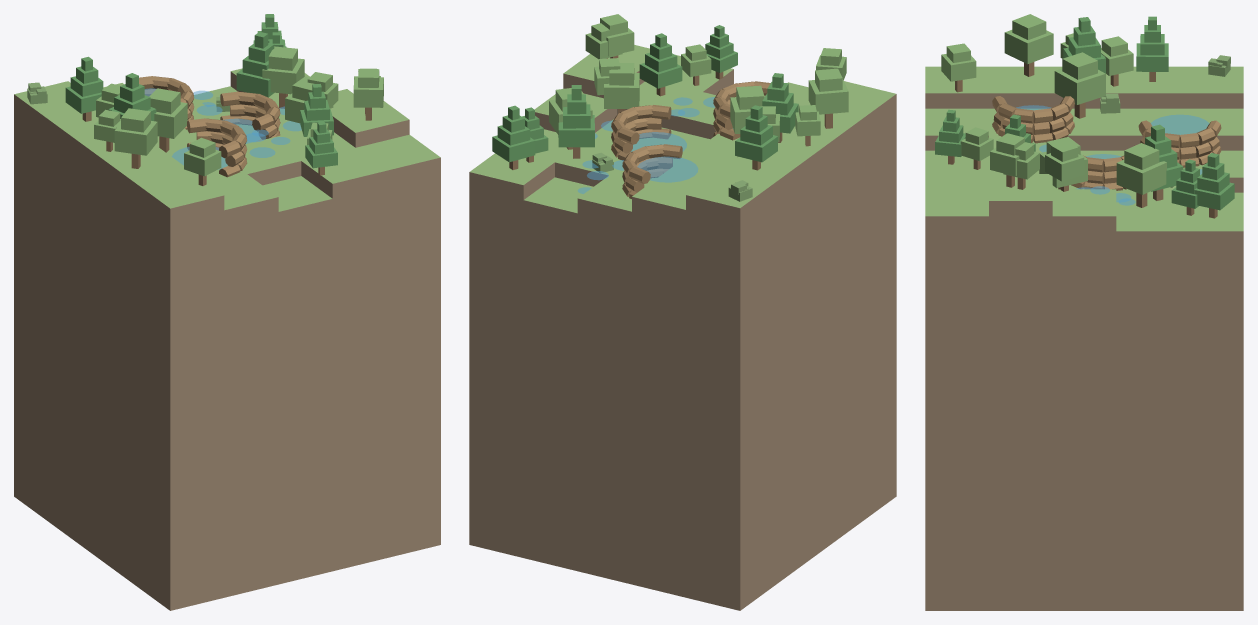
The model's file is block_3_leakingdam_100.glb.
The picture shows the model from 3 angles, left to right: view 1: azimuth 30°, elevation 25°; view 2: azimuth 150°, elevation 25°; view 3: azimuth 270°, elevation 25°; orthographic projection.
Parts seen in each view (by area): view 1: Patch_UpperLeft_b08_LD, LD_Dam_03, LD_Veg_03_003, LD_Water_03, LD_Veg_03_000, LD_Veg_03_015, LD_Veg_03_020, LD_Veg_03_007, LD_Veg_03_016, LD_Veg_03_012, LD_Veg_03_013, LD_Veg_03_002 (+4 smaller); view 2: Patch_UpperLeft_b08_LD, LD_Dam_03, LD_Water_03, LD_Veg_03_015, LD_Veg_03_007, LD_Veg_03_009, LD_Veg_03_003, LD_Veg_03_019, LD_Veg_03_010, LD_Veg_03_002, LD_Veg_03_013, LD_Veg_03_000 (+8 smaller); view 3: Patch_UpperLeft_b08_LD, LD_Dam_03, LD_Veg_03_000, LD_Veg_03_020, LD_Veg_03_003, LD_Veg_03_009, LD_Water_03, LD_Veg_03_007, LD_Veg_03_018, LD_Veg_03_015, LD_Veg_03_012, LD_Veg_03_016 (+7 smaller).
Boxes of the visible parts, box(x1,y1,x2,y2) form: Patch_UpperLeft_b08_LD: box(14, 68, 440, 610); LD_Dam_03: box(139, 76, 280, 177); LD_Veg_03_003: box(114, 108, 157, 168); LD_Water_03: box(144, 88, 301, 169); LD_Veg_03_000: box(149, 88, 187, 152); LD_Veg_03_015: box(236, 31, 274, 97); LD_Veg_03_020: box(262, 46, 304, 108); LD_Veg_03_007: box(65, 56, 103, 121); LD_Veg_03_016: box(353, 69, 383, 120); LD_Veg_03_012: box(184, 137, 221, 185); LD_Veg_03_013: box(305, 121, 337, 175); LD_Veg_03_002: box(108, 73, 156, 120); Patch_UpperLeft_b08_LD: box(469, 45, 896, 610); LD_Dam_03: box(611, 81, 770, 198); LD_Water_03: box(577, 97, 714, 193); LD_Veg_03_015: box(558, 85, 594, 158); LD_Veg_03_007: box(735, 105, 777, 170); LD_Veg_03_009: box(492, 105, 535, 169); LD_Veg_03_003: box(808, 68, 848, 128); LD_Veg_03_019: box(639, 33, 682, 96); LD_Veg_03_010: box(604, 63, 639, 113); LD_Veg_03_002: box(762, 73, 798, 142); LD_Veg_03_013: box(705, 25, 737, 79); LD_Veg_03_000: box(730, 85, 765, 133); Patch_UpperLeft_b08_LD: box(925, 66, 1243, 610); LD_Dam_03: box(992, 96, 1221, 190); LD_Veg_03_000: box(1054, 52, 1105, 118); LD_Veg_03_020: box(1116, 143, 1166, 207); LD_Veg_03_003: box(1004, 14, 1053, 76); LD_Veg_03_009: box(1194, 153, 1234, 218); LD_Water_03: box(1016, 105, 1209, 205); LD_Veg_03_007: box(1136, 16, 1168, 81); LD_Veg_03_018: box(1045, 140, 1084, 191); LD_Veg_03_015: box(1145, 124, 1183, 200); LD_Veg_03_012: box(941, 43, 976, 92); LD_Veg_03_016: box(990, 133, 1024, 187).
Size of the model in its own units: 9.64 by 15.71 by 9.5.
